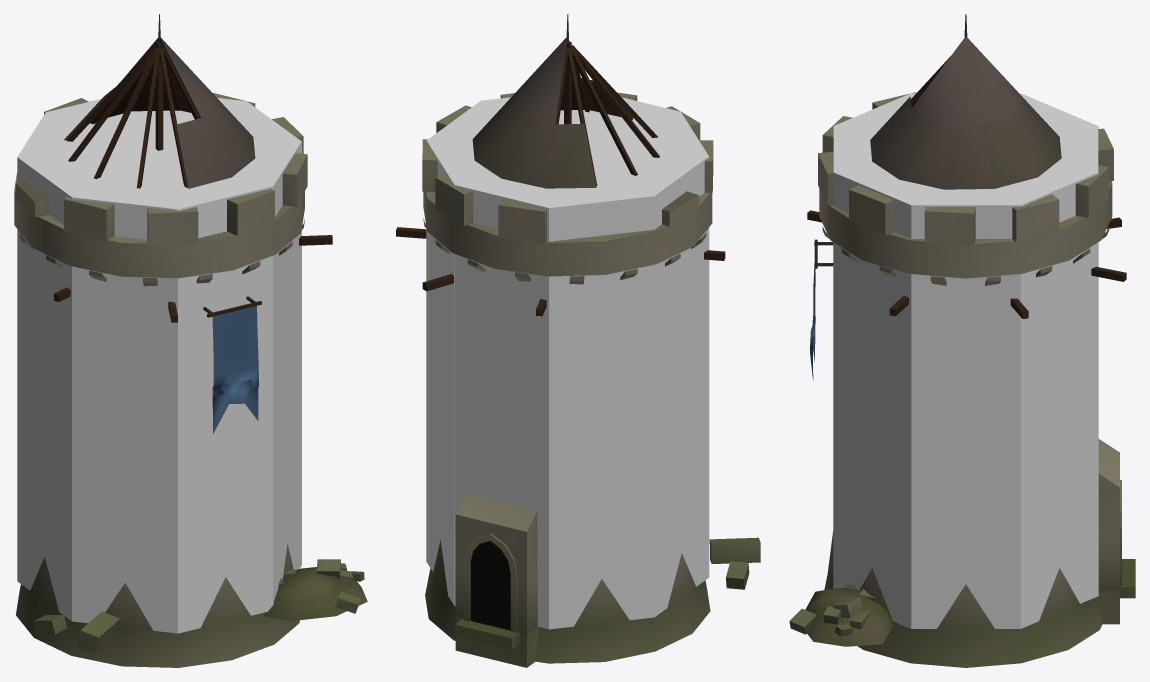
The model's file is castle_tower.glb.
The picture shows the model from 3 angles, left to right: view 1: azimuth 30°, elevation 25°; view 2: azimuth 150°, elevation 25°; view 3: azimuth 270°, elevation 25°; orthographic projection.
Visible parts, largest first — view 1: castle_tower, COL_tower_2, COL_tower_3, COL_tower_1, COL_tower_4; view 2: castle_tower, COL_tower_4, COL_tower_3, COL_tower_1, COL_tower_2; view 3: castle_tower, COL_tower_1, COL_tower_4, COL_tower_2, COL_tower_3.
Boxes of the visible parts, box(x1,y1,x2,y2) form: castle_tower: box(14, 14, 367, 667); COL_tower_2: box(72, 98, 245, 633); COL_tower_3: box(46, 99, 273, 633); COL_tower_1: box(17, 101, 301, 620); COL_tower_4: box(17, 112, 301, 604); castle_tower: box(396, 14, 760, 667); COL_tower_4: box(482, 97, 654, 629); COL_tower_3: box(455, 97, 680, 629); COL_tower_1: box(426, 100, 709, 617); COL_tower_2: box(426, 112, 708, 605); castle_tower: box(789, 14, 1135, 667); COL_tower_1: box(911, 93, 1020, 628); COL_tower_4: box(833, 93, 1098, 628); COL_tower_2: box(833, 93, 1098, 628); COL_tower_3: box(833, 126, 1098, 172).
Bounding box in the file's own units: 8.22 × 15.8 × 8.37.
